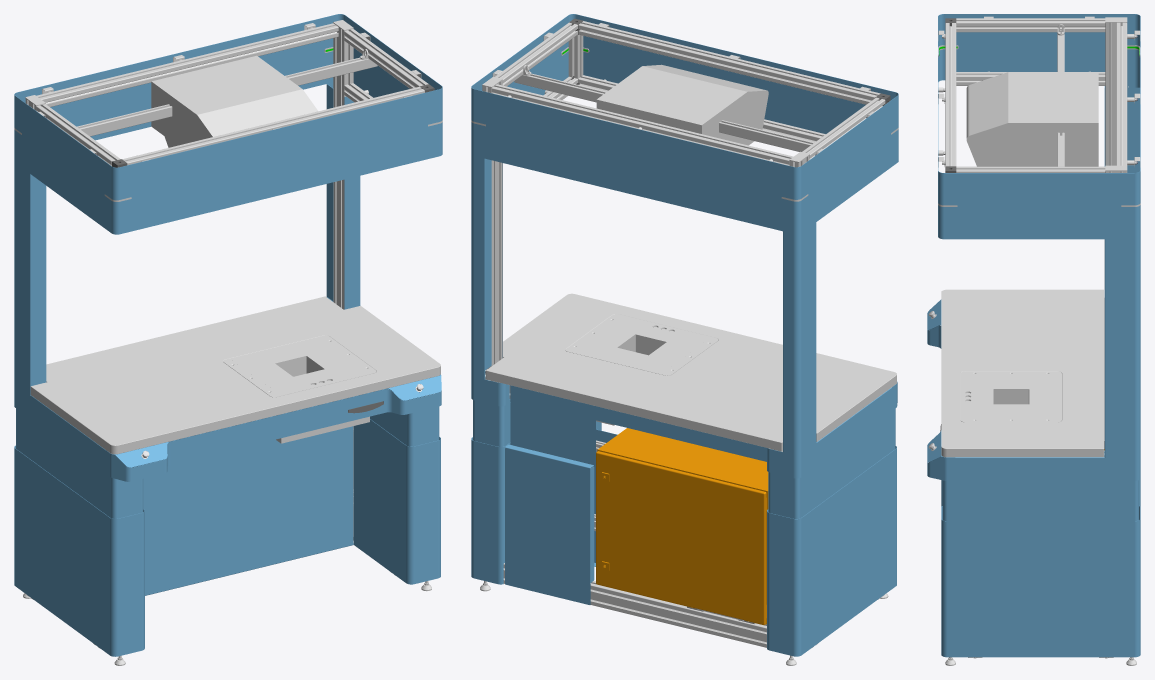
File: c082811472_recam_bench_complete_asm.fbx
3 renders of one model, left to right at view 1: azimuth 30°, elevation 25°; view 2: azimuth 150°, elevation 25°; view 3: azimuth 270°, elevation 25°, orthographic.
Visible parts, largest first — view 1: TOP_PANEL_1 (×2), TABLE_PLATE, WALL_MID, FOOT_FIXED_3, CAMERA, TABLE_COVER_FRONT_1, COLUMN_PANEL_L, FOOT_MOVING_2 (×2), FOOT_FIXED_2, TOP_PANEL_2 (×2), FOOT_FIXED_3_MIRROR, VOLUMENK_X_F6RPER1-3407 (+10 smaller); view 2: TOP_PANEL_1 (×2), AE_1055_500_ASM, TABLE_PLATE, FOOT_FIXED_3, WALL_BACK, CAMERA, WALL_UPPER, COLUMN_PANEL_L, FOOT_MOVING_2 (×2), TOP_PANEL_2 (×2), COLUMN_PANEL_R, FOOT_FIXED_3_MIRROR (+12 smaller); view 3: FOOT_FIXED_3_MIRROR, TABLE_PLATE, TOP_PANEL_2 (×2), CAMERA, COLUMN_PANEL_R, FOOT_MOVING_2, TOP_PANEL_1 (×2), VOLUMENK_X_F6RPER1-3407, TABLE_COVER_SIDE_1, P45_45_MOVE_T_FR_3, P90_45_MOVE_COLUMN_L, P45_45_MOVE_T_FR_4 (+10 smaller).
Part boxes in pixels (x1,y1,x2,y2): TOP_PANEL_1 (×2): (14,14,442,234); TABLE_PLATE: (30,296,440,454); WALL_MID: (143,426,353,595); FOOT_FIXED_3: (14,445,144,656); CAMERA: (151,55,317,147); TABLE_COVER_FRONT_1: (106,389,441,481); COLUMN_PANEL_L: (14,162,46,394); FOOT_MOVING_2 (×2): (16,397,439,518); FOOT_FIXED_2: (353,419,398,577); TOP_PANEL_2 (×2): (30,26,426,221); FOOT_FIXED_3_MIRROR: (399,437,440,584); VOLUMENK_X_F6RPER1-3407: (230,337,369,443); TOP_PANEL_1 (×2): (471,14,898,234); AE_1055_500_ASM: (596,428,768,625); TABLE_PLATE: (486,293,896,451); FOOT_FIXED_3: (767,446,896,656); WALL_BACK: (505,444,594,604); CAMERA: (596,64,768,145); WALL_UPPER: (510,385,766,503); COLUMN_PANEL_L: (783,222,816,454); FOOT_MOVING_2 (×2): (473,399,895,518); TOP_PANEL_2 (×2): (487,26,882,221); COLUMN_PANEL_R: (471,154,502,379); FOOT_FIXED_3_MIRROR: (471,421,601,584); FOOT_FIXED_3_MIRROR: (941,506,1140,657); TABLE_PLATE: (941,289,1104,457); TOP_PANEL_2 (×2): (974,14,1104,239); CAMERA: (966,72,1098,166); COLUMN_PANEL_R: (1104,237,1140,457); FOOT_MOVING_2: (942,480,1138,521); TOP_PANEL_1 (×2): (938,14,1140,239); VOLUMENK_X_F6RPER1-3407: (960,375,1061,417); TABLE_COVER_SIDE_1: (955,451,1104,480); P45_45_MOVE_T_FR_3: (956,18,1105,32); P90_45_MOVE_COLUMN_L: (1105,22,1122,165); P45_45_MOVE_T_FR_4: (945,23,956,166).
Bounding box in the file's own units: 1549 × 2252 × 877.
